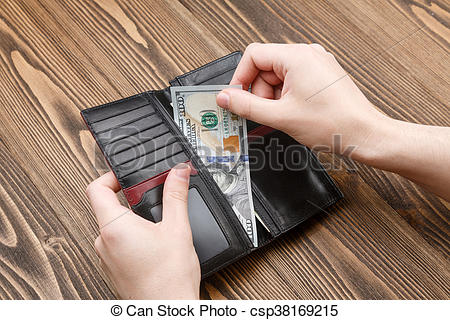monedero: (78, 48, 348, 282)
